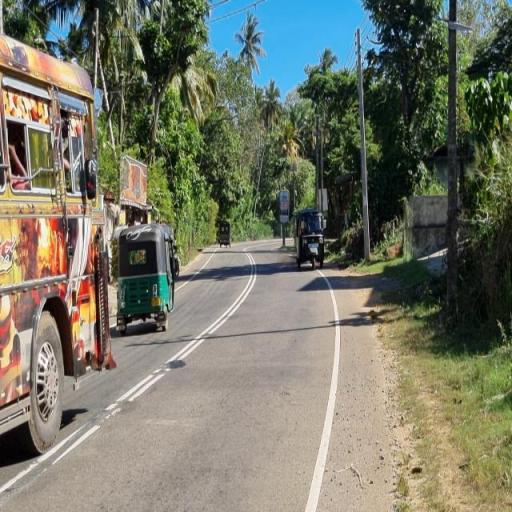double_white_line: (106, 254, 258, 422)
